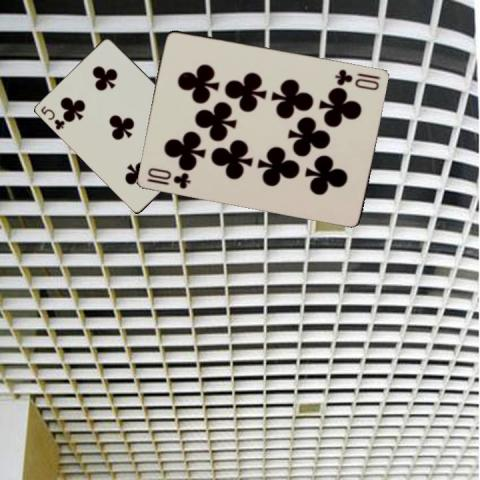10c: (332, 66, 382, 92), (144, 164, 192, 190)
5c: (38, 103, 67, 131)
